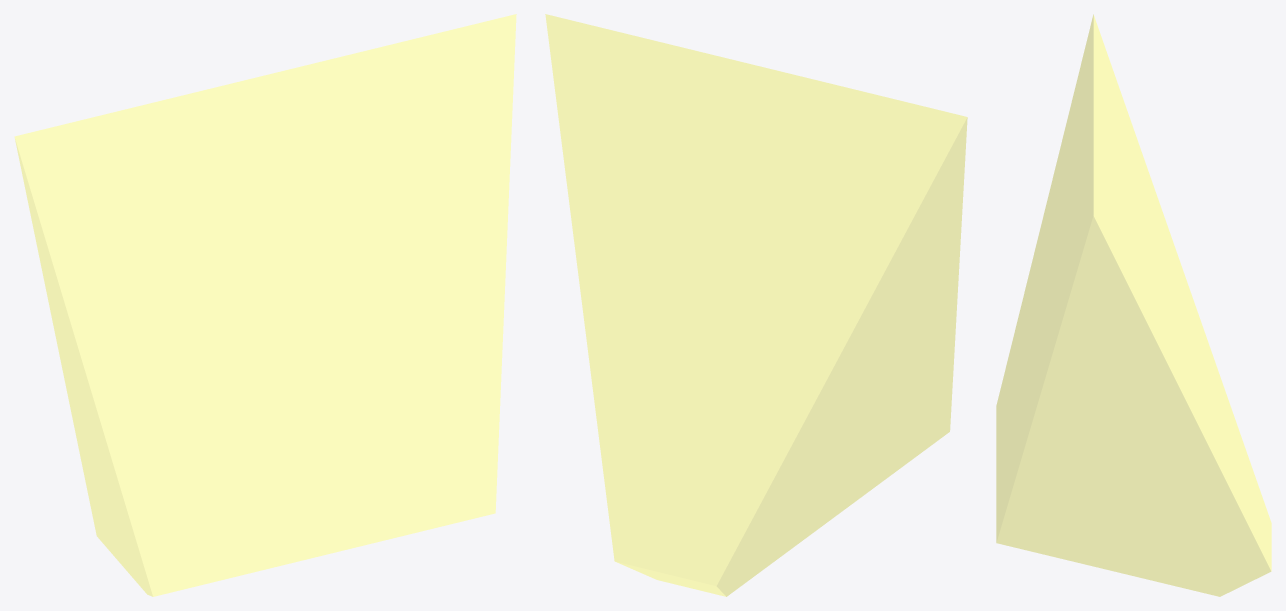
Rendered from spotlightlight.glb.
The picture shows the model from 3 angles, left to right: view 1: azimuth 30°, elevation 25°; view 2: azimuth 150°, elevation 25°; view 3: azimuth 270°, elevation 25°; orthographic projection. The views are drawn at different scales.
Visible parts, largest first — view 1: Puzzle06_MunaAtrilLightright.001; view 2: Puzzle06_MunaAtrilLightright.001; view 3: Puzzle06_MunaAtrilLightright.001.
Boxes of the visible parts, <box> form: Puzzle06_MunaAtrilLightright.001: <box>14,14,516,596</box>; Puzzle06_MunaAtrilLightright.001: <box>545,14,967,596</box>; Puzzle06_MunaAtrilLightright.001: <box>996,14,1271,596</box>.
Bounding box in the file's own units: 0.8901 × 0.9581 × 0.513.
